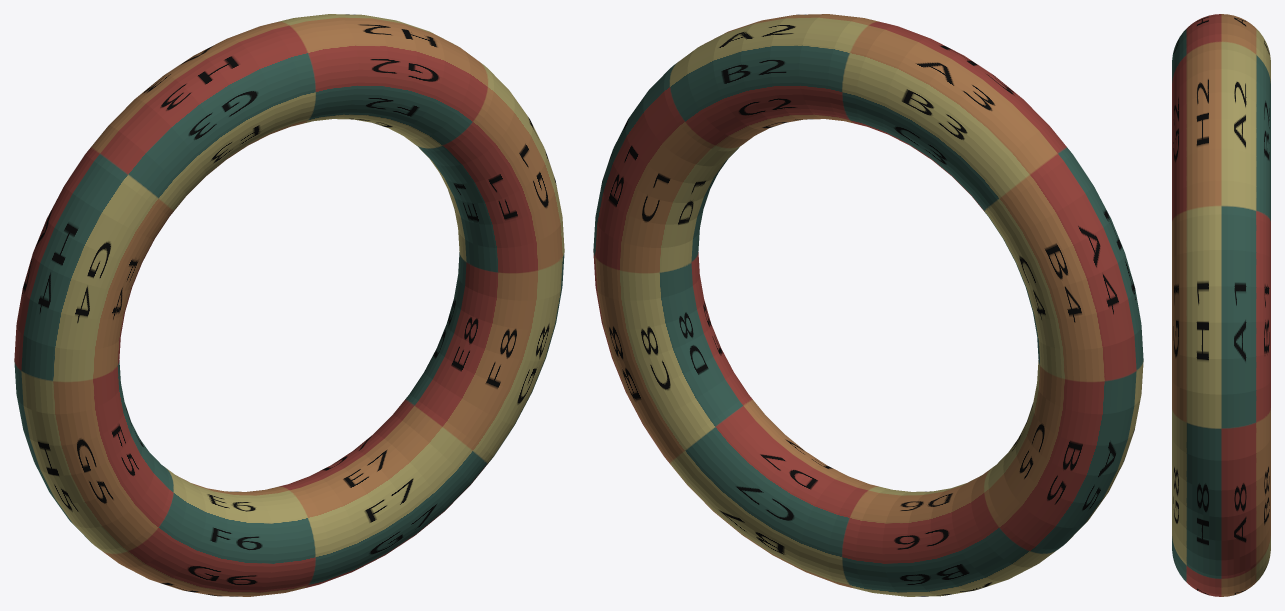
File: texture_torus_R29_r15.glb
3 views of the same model, side by side, from view 1: azimuth 30°, elevation 25°; view 2: azimuth 150°, elevation 25°; view 3: azimuth 270°, elevation 25° (orthographic). The views are drawn at different scales.
Visible parts, largest first — view 1: world; view 2: world; view 3: world.
Boxes of the visible parts, x1,y1,x2,y2 form: world: (14,14,564,596); world: (593,14,1143,596); world: (1172,14,1270,596).
Size of the model in its own units: 35.33 by 35.26 by 5.99.
1 material, 1 textured.
